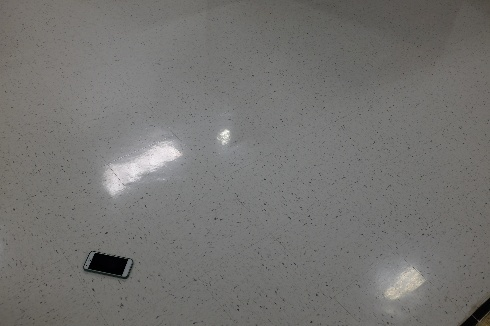phone: (83, 248, 132, 280)
